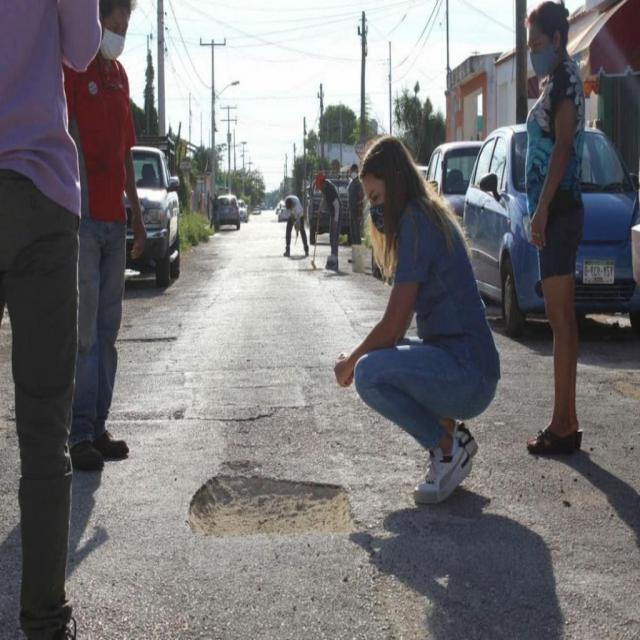pothole: (166, 431, 364, 572)
